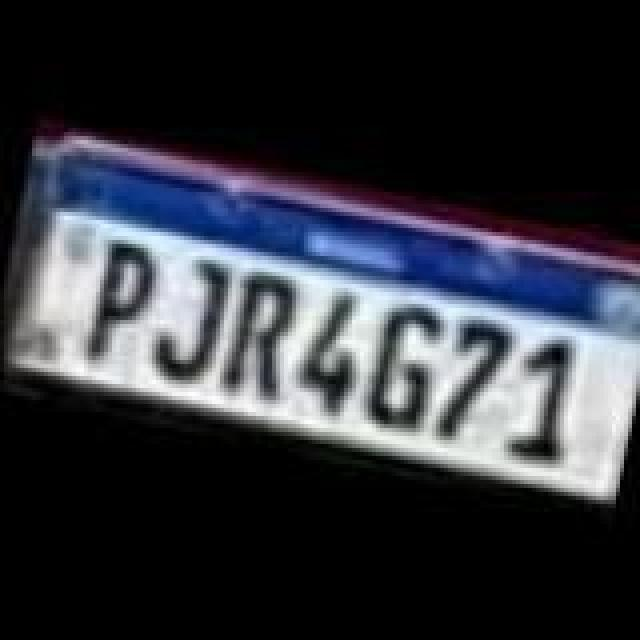1: (498, 328, 594, 464)
4: (284, 278, 376, 426)
7: (428, 316, 512, 444)
G: (356, 300, 448, 436)
J: (142, 250, 238, 390)
P: (76, 234, 160, 374)
R: (218, 270, 306, 402)
